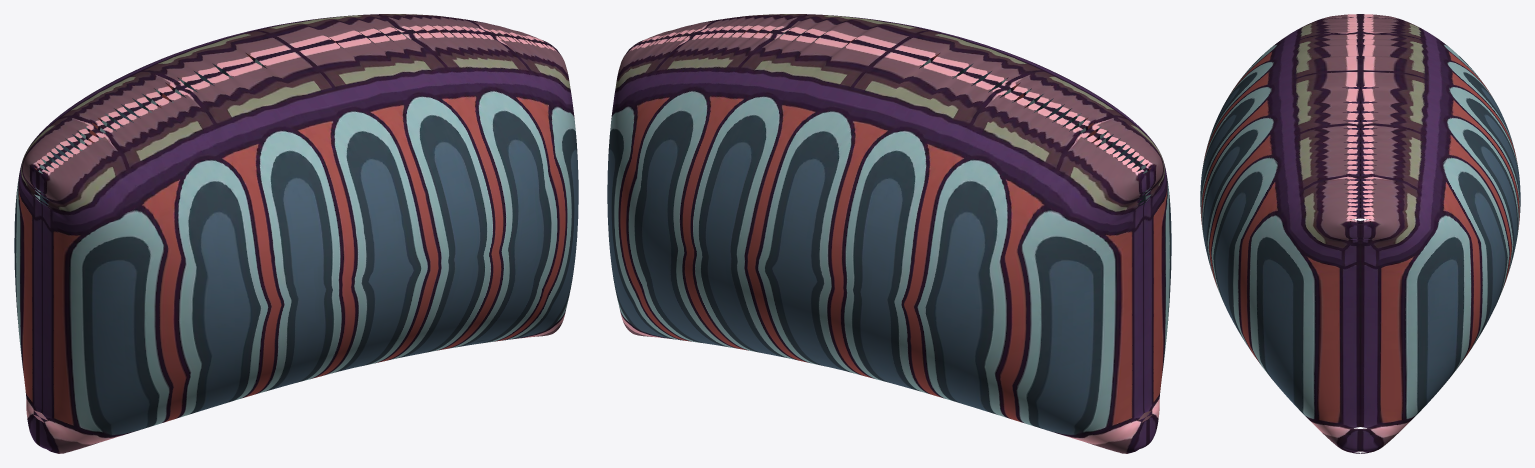
Rendered from arched_bulkhead.glb.
3 renders of one model, left to right at view 1: azimuth 30°, elevation 25°; view 2: azimuth 150°, elevation 25°; view 3: azimuth 270°, elevation 25°, orthographic. The views are drawn at different scales.
Visible parts, largest first — view 1: arched_bulkhead; view 2: arched_bulkhead; view 3: arched_bulkhead.
Boxes of the visible parts, left/top/right/bottom form: arched_bulkhead: left=14, top=14, right=578, bottom=453; arched_bulkhead: left=607, top=14, right=1171, bottom=453; arched_bulkhead: left=1200, top=14, right=1520, bottom=453.
Size of the model in its own units: 0.989 by 0.6246 by 0.6408.
1 material, 1 textured.
